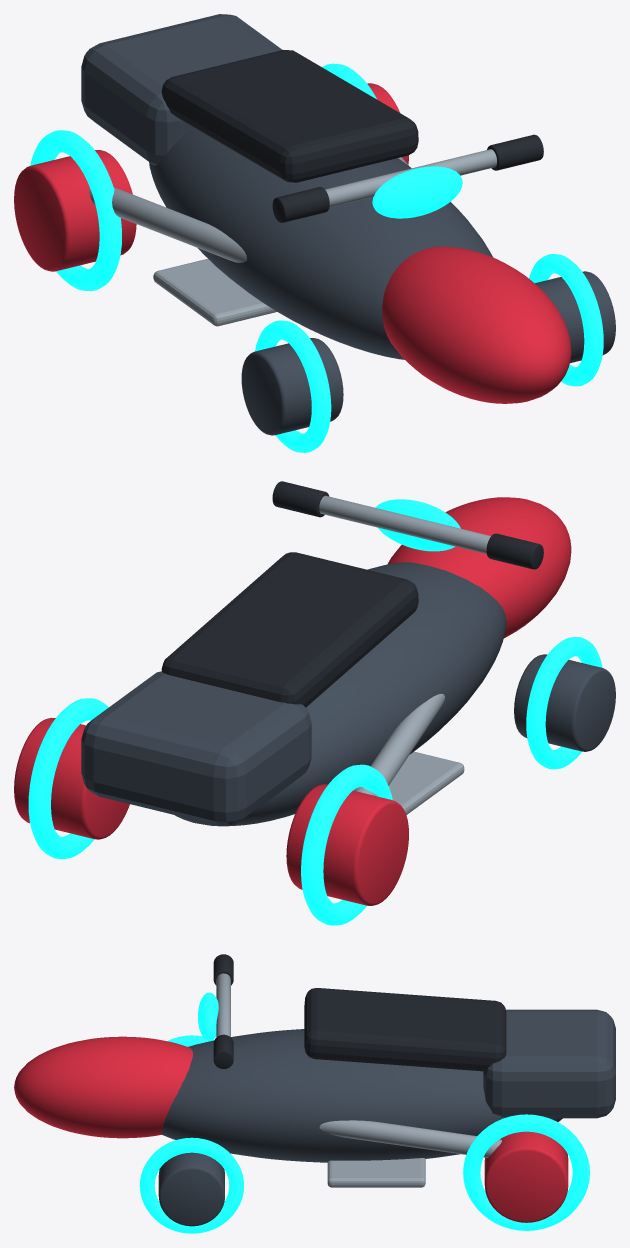
The model's file is cyberpunk_hoverbike.glb.
The picture shows the model from 3 angles, top to bottom: view 1: azimuth 30°, elevation 25°; view 2: azimuth 150°, elevation 25°; view 3: azimuth 270°, elevation 25°; orthographic projection. The views are drawn at different scales.
Parts seen in each view (by area): view 1: Hoverbike_MainFuselage, Hoverbike_NoseCowling, Hoverbike_RiderSeat, Hoverbike_RearCowl, Hoverbike_LeftRearPod, Hoverbike_LeftFrontPod, Hoverbike_LeftRearLiftRing, Hoverbike_LeftFootrest, Hoverbike_LeftFrontLiftRing, Hoverbike_LeftFrameRail, Hoverbike_Dashboard, Hoverbike_RightFrontLiftRing (+5 smaller); view 2: Hoverbike_RearCowl, Hoverbike_MainFuselage, Hoverbike_RiderSeat, Hoverbike_NoseCowling, Hoverbike_LeftRearPod, Hoverbike_LeftFrontPod, Hoverbike_RightRearPod, Hoverbike_LeftRearLiftRing, Hoverbike_RightRearLiftRing, Hoverbike_LeftFrontLiftRing, Hoverbike_Handlebar, Hoverbike_LeftFootrest (+4 smaller); view 3: Hoverbike_MainFuselage, Hoverbike_RiderSeat, Hoverbike_NoseCowling, Hoverbike_RearCowl, Hoverbike_RightRearPod, Hoverbike_RightRearLiftRing, Hoverbike_RightFrontPod, Hoverbike_RightFrontLiftRing, Hoverbike_RightFrameRail, Hoverbike_RightFootrest, Hoverbike_Handlebar, Hoverbike_Dashboard (+2 smaller).
Boxes of the visible parts, x1,y1,x2,y2 form: Hoverbike_MainFuselage: (149,127,493,359); Hoverbike_NoseCowling: (382,246,571,403); Hoverbike_RiderSeat: (161,50,418,182); Hoverbike_RearCowl: (81,14,282,165); Hoverbike_LeftRearPod: (14,150,136,271); Hoverbike_LeftFrontPod: (241,338,343,435); Hoverbike_LeftRearLiftRing: (30,130,121,291); Hoverbike_LeftFootrest: (153,258,276,326); Hoverbike_LeftFrontLiftRing: (255,320,331,452); Hoverbike_LeftFrameRail: (89,187,246,262); Hoverbike_Dashboard: (372,166,462,218); Hoverbike_RightFrontLiftRing: (529,254,603,386); Hoverbike_RearCowl: (81,671,311,825); Hoverbike_MainFuselage: (175,562,506,826); Hoverbike_RiderSeat: (161,552,418,707); Hoverbike_NoseCowling: (387,497,571,638); Hoverbike_LeftRearPod: (286,784,408,905); Hoverbike_LeftFrontPod: (514,654,615,751); Hoverbike_RightRearPod: (14,717,129,839); Hoverbike_LeftRearLiftRing: (301,764,392,925); Hoverbike_RightRearLiftRing: (28,698,108,859); Hoverbike_LeftFrontLiftRing: (526,637,602,769); Hoverbike_Handlebar: (319,495,490,553); Hoverbike_LeftFootrest: (353,751,464,814); Hoverbike_MainFuselage: (161,1029,562,1162); Hoverbike_RiderSeat: (304,988,506,1071); Hoverbike_NoseCowling: (14,1036,192,1138); Hoverbike_RearCowl: (483,1009,615,1118); Hoverbike_RightRearPod: (484,1131,568,1222); Hoverbike_RightRearLiftRing: (463,1114,589,1230); Hoverbike_RightFrontPod: (158,1152,224,1226); Hoverbike_RightFrontLiftRing: (139,1137,243,1233); Hoverbike_RightFrameRail: (319,1120,501,1157); Hoverbike_RightFootrest: (327,1158,425,1187); Hoverbike_Handlebar: (216,973,230,1037); Hoverbike_Dashboard: (198,992,218,1041).
Size of the model in its own units: 1.06 by 0.6992 by 2.09.
